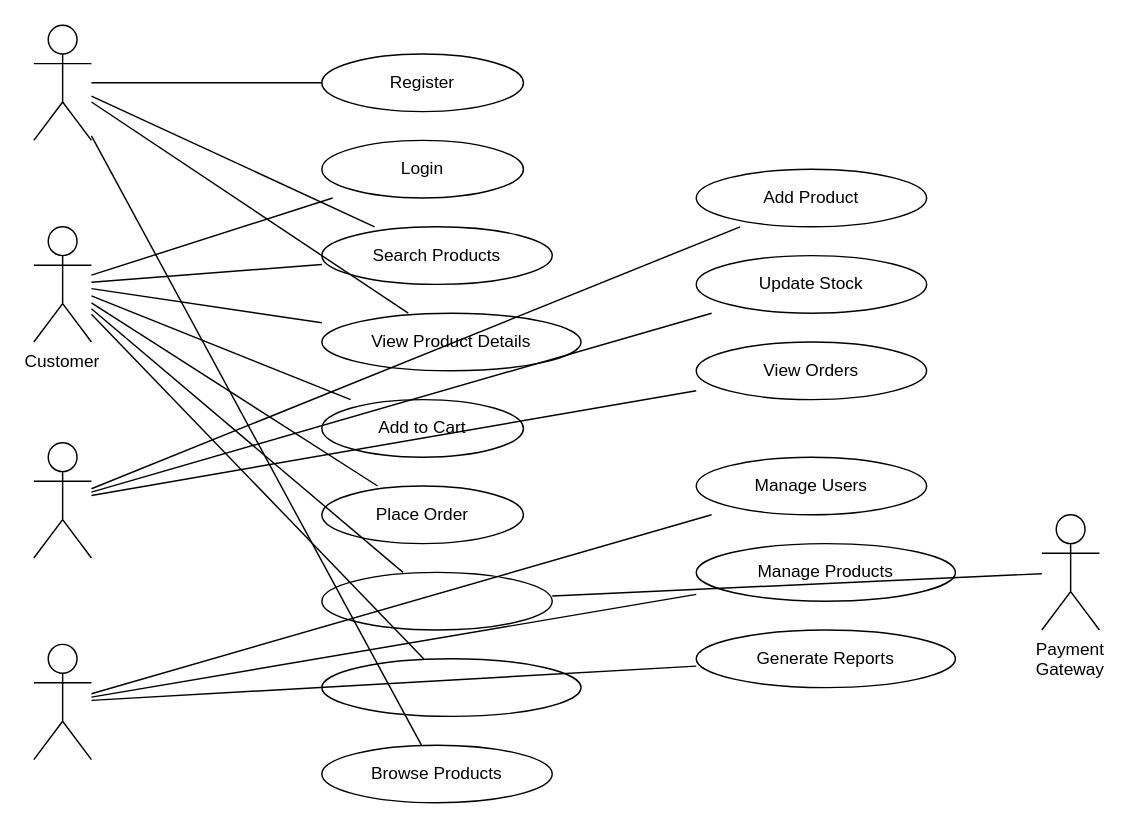
Some shapes in this 1130 by 828 pixel diagram are drawn without their labels. The shapes that lost their labels are listed below. From the top down, each one's centre as x and y in pixels, then its label:
At point (61, 82): "Guest".
At point (61, 499): "Seller".
At point (436, 600): "Online Payment".
At point (61, 701): "Admin".
At point (450, 686): "View Order History".
